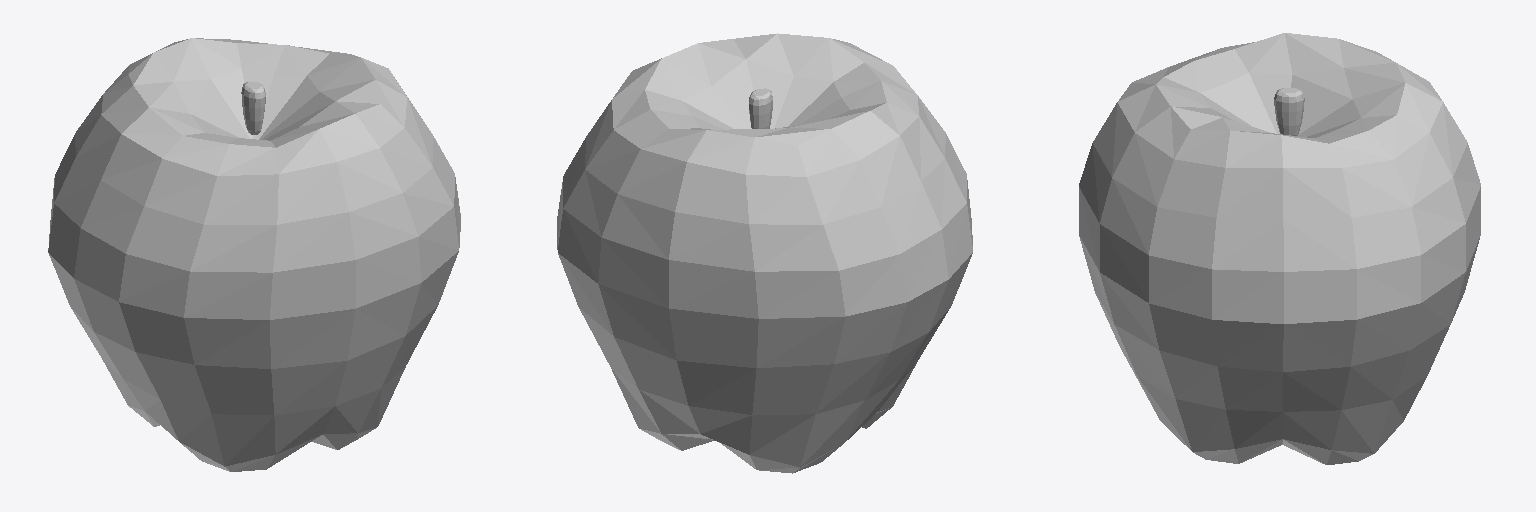
Rendered from apple.obj.
The picture shows the model from 3 angles: view 1: azimuth 30°, elevation 25°; view 2: azimuth 150°, elevation 25°; view 3: azimuth 270°, elevation 25°; orthographic projection.
Visible parts, largest first — view 1: pCylinder3; view 2: pCylinder3; view 3: pCylinder3.
Boxes of the visible parts, x1,y1,x2,y2 form: pCylinder3: [48, 38, 460, 471]; pCylinder3: [557, 33, 972, 473]; pCylinder3: [1079, 33, 1480, 464].
Size of the model in its own units: 2.59 by 2.35 by 2.48.